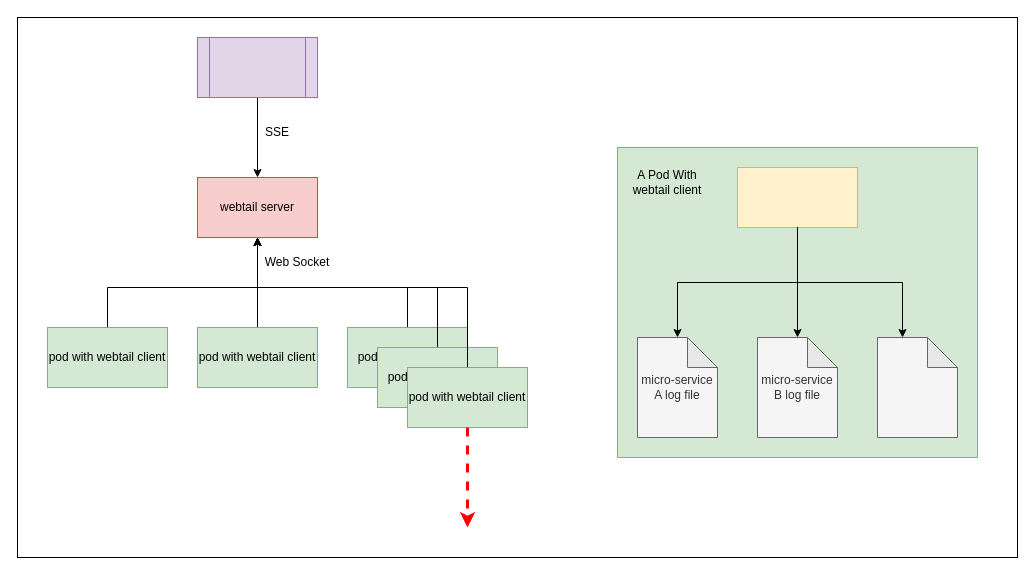
Image size: 1035x575. Some labels were removed from this diagram. Each missing label, with the box of its shape:
webtail client: (736, 166, 858, 228)
webtail front-end: (196, 36, 318, 98)
